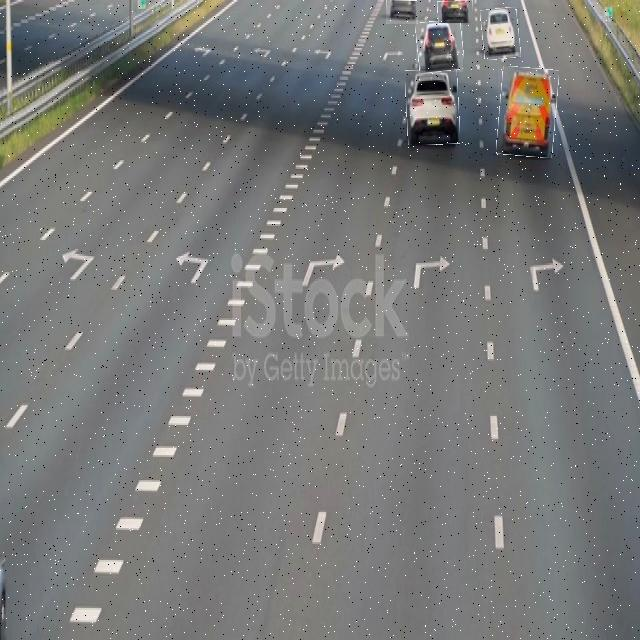Car: (406, 69, 459, 144), (416, 20, 463, 72), (482, 8, 520, 59), (437, 0, 473, 23), (386, 0, 417, 24)
Truck: (498, 67, 558, 157)
